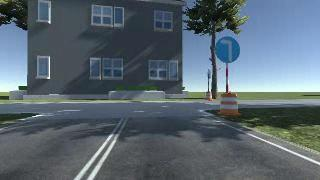turn_left: (214, 38, 239, 62)
